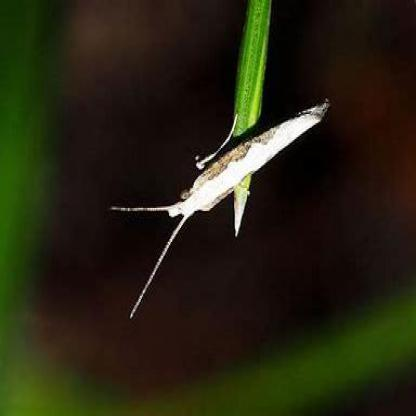plutella: (95, 1, 333, 336)
